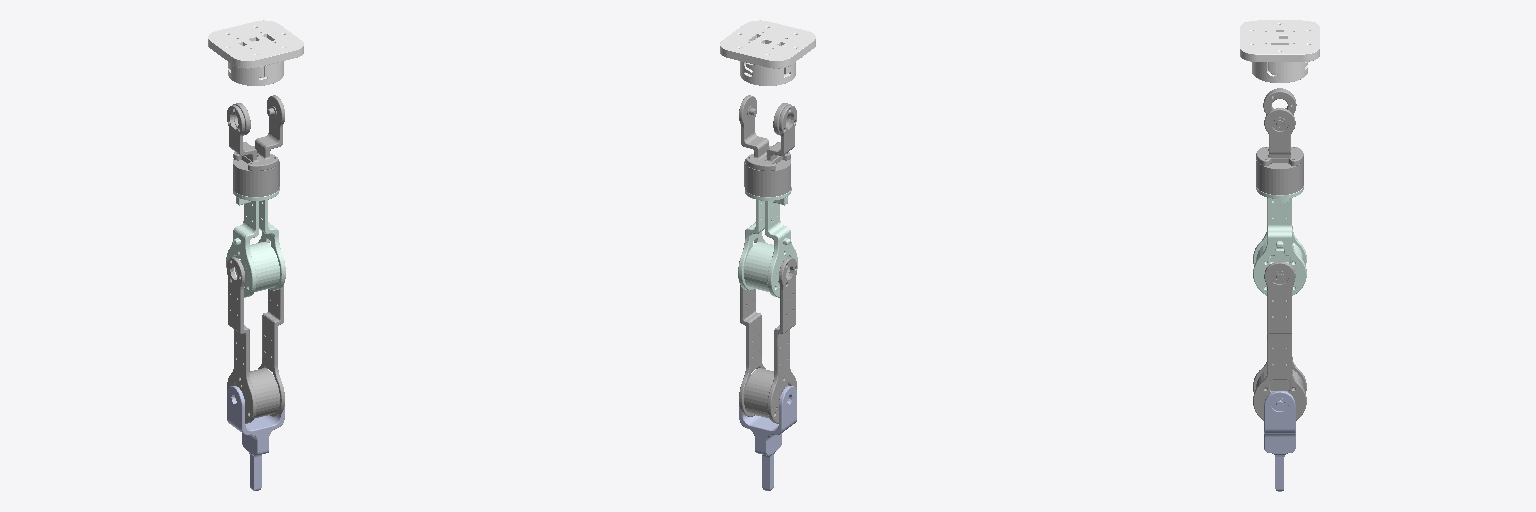
The robot description file, URDF, robot "tandem_mani":
<?xml version="1.0" encoding="utf-8"?>
<!-- This URDF was automatically created by SolidWorks to URDF Exporter! Originally created by [author] ([email redacted]) 
     Commit Version: 1.6.0-4-g7f85cfe  Build Version: 1.6.7995.38578
     For more information, please see http://wiki.ros.org/sw_urdf_exporter -->
<robot
  name="tandem_mani">
<link name="world"/>

 <joint
    name="world_joint"
    type="fixed">
    <origin
      xyz="0 0 1.5"
      rpy="0 0 0" />
    <parent
      link="world" />
    <child
      link="base_link" />
  </joint>

  <link
    name="base_link">
    <inertial>
      <origin
        xyz="0.000135595388122672 5.91224063131307E-05 -0.018365850422852"
        rpy="0 0 0" />
      <mass
        value="2" />
      <inertia
        ixx="2"
        ixy="0"
        ixz="0"
        iyy="2"
        iyz="0"
        izz="2" />
    </inertial>
    <visual>
      <origin
        xyz="0 0 0"
        rpy="0 0 0" />
      <geometry>
        <mesh
          filename="package://tandem_mani/meshes/base_link.STL" />
      </geometry>
      <material
        name="">
        <color
          rgba="1 1 1 1" />
      </material>
    </visual>
    <collision>
      <origin
        xyz="0 0 0"
        rpy="0 0 0" />
      <geometry>
        <mesh
          filename="package://tandem_mani/meshes/base_link.STL" />
      </geometry>
    </collision>
  </link>
  <link
    name="link1">
    <inertial>
      <origin
        xyz="-1.45218249936463E-05 -4.78850872871073E-05 0.0041298276795592"
        rpy="0 0 0" />
      <mass
        value="2" />
      <inertia
        ixx="2"
        ixy="0"
        ixz="0"
        iyy="2"
        iyz="0"
        izz="2" />
    </inertial>
    <visual>
      <origin
        xyz="0 0 0"
        rpy="0 0 0" />
      <geometry>
        <mesh
          filename="package://tandem_mani/meshes/link1.STL" />
      </geometry>
      <material
        name="">
        <color
          rgba="0.905882352941176 1 0.964705882352941 1" />
      </material>
    </visual>
    <collision>
      <origin
        xyz="0 0 0"
        rpy="0 0 0" />
      <geometry>
        <mesh
          filename="package://tandem_mani/meshes/link1.STL" />
      </geometry>
    </collision>
  </link>
  <joint
    name="joint1"
    type="revolute">
    <origin
      xyz="0.00015793 0 -0.093"
      rpy="0 0 1.5708" />
    <parent
      link="base_link" />
    <child
      link="link1" />
     <limit effort="500" velocity="100" lower="-3.14" upper="3.14" />
    <axis
      xyz="0 0 1" />
  </joint>
  <link
    name="link2">
    <inertial>
      <origin
        xyz="-2.14601662783948E-07 -0.0655891331164192 -0.000125674296825215"
        rpy="0 0 0" />
      <mass
        value="2" />
      <inertia
        ixx="2"
        ixy="0"
        ixz="0"
        iyy="2"
        iyz="0"
        izz="2" />
    </inertial>
    <visual>
      <origin
        xyz="0 0 0"
        rpy="0 0 0" />
      <geometry>
        <mesh
          filename="package://tandem_mani/meshes/link2.STL" />
      </geometry>
      <material
        name="">
        <color
          rgba="0.752941176470588 0.752941176470588 0.752941176470588 1" />
      </material>
    </visual>
    <collision>
      <origin
        xyz="0 0 0"
        rpy="0 0 0" />
      <geometry>
        <mesh
          filename="package://tandem_mani/meshes/link2.STL" />
      </geometry>
    </collision>
  </link>
  <joint
    name="joint2"
    type="revolute">
    <origin
      xyz="0 0 0"
      rpy="1.5708 0 0" />
    <parent
      link="link1" />
    <child
      link="link2" />
    <limit effort="500" velocity="100" lower="-3.14" upper="3.14" />
    <axis
      xyz="0 0 1" />
  </joint>
  <link
    name="link3">
    <inertial>
      <origin
        xyz="5.06666183667029E-06 3.62276375425394E-05 -0.00924645090381562"
        rpy="0 0 0" />
      <mass
        value="2" />
      <inertia
        ixx="2"
        ixy="0"
        ixz="0"
        iyy="2"
        iyz="0"
        izz="2" />
    </inertial>
    <visual>
      <origin
        xyz="0 0 0"
        rpy="0 0 0" />
      <geometry>
        <mesh
          filename="package://tandem_mani/meshes/link3.STL" />
      </geometry>
      <material
        name="">
        <color
          rgba="0.905882352941176 1 0.964705882352941 1" />
      </material>
    </visual>
    <collision>
      <origin
        xyz="0 0 0"
        rpy="0 0 0" />
      <geometry>
        <mesh
          filename="package://tandem_mani/meshes/link3.STL" />
      </geometry>
    </collision>
  </link>
  <joint
    name="joint3"
    type="revolute">
    <origin
      xyz="0 -0.189 0"
      rpy="1.5708 0 0" />
    <parent
      link="link2" />
    <child
      link="link3" />
    <limit effort="500" velocity="100" lower="-3.14" upper="3.14" />
    <axis
      xyz="0 0 1" />
  </joint>
  <link
    name="link4">
    <inertial>
      <origin
        xyz="0.140083180519364 7.70217223333702E-16 0.000270635189935343"
        rpy="0 0 0" />
     <mass
        value="2" />
      <inertia
        ixx="2"
        ixy="0"
        ixz="0"
        iyy="2"
        iyz="0"
        izz="2" />
    </inertial>
    <visual>
      <origin
        xyz="0 0 0"
        rpy="0 0 0" />
      <geometry>
        <mesh
          filename="package://tandem_mani/meshes/link4.STL" />
      </geometry>
      <material
        name="">
        <color
          rgba="0.752941176470588 0.752941176470588 0.752941176470588 1" />
      </material>
    </visual>
    <collision>
      <origin
        xyz="0 0 0"
        rpy="0 0 0" />
      <geometry>
        <mesh
          filename="package://tandem_mani/meshes/link4.STL" />
      </geometry>
    </collision>
  </link>
  <joint
    name="joint4"
    type="revolute">
    <origin
      xyz="0 0 0"
      rpy="-1.5708 -1.5708 0" />
    <parent
      link="link3" />
    <child
      link="link4" />
      <limit effort="500" velocity="100" lower="-3.14" upper="3.14" />
    <axis
      xyz="0 0 1" />
  </joint>
  <link
    name="link5">
    <inertial>
      <origin
        xyz="-1.65614616465248E-09 -0.0395485542653819 0.000379781564919621"
        rpy="0 0 0" />
     <mass
        value="2" />
      <inertia
        ixx="2"
        ixy="0"
        ixz="0"
        iyy="2"
        iyz="0"
        izz="2" />
    </inertial>
    <visual>
      <origin
        xyz="0 0 0"
        rpy="0 0 0" />
      <geometry>
        <mesh
          filename="package://tandem_mani/meshes/link5.STL" />
      </geometry>
      <material
        name="">
        <color
          rgba="0.792156862745098 0.819607843137255 0.933333333333333 1" />
      </material>
    </visual>
    <collision>
      <origin
        xyz="0 0 0"
        rpy="0 0 0" />
      <geometry>
        <mesh
          filename="package://tandem_mani/meshes/link5.STL" />
      </geometry>
    </collision>
  </link>
  <joint
    name="joint5"
    type="revolute">
    <origin
      xyz="0.157 0 0"
      rpy="0 0 1.5708" />
    <parent
      link="link4" />
    <child
      link="link5" />
    <limit effort="500" velocity="100" lower="-3.14" upper="3.14" />
    <axis
      xyz="0 0 1" />
  </joint>
  <link
    name="end_point">
    <inertial>
      <origin
        xyz="-1.38777878078145E-17 0 0.00312400364362017"
        rpy="0 0 0" />
     <mass
        value="0.000001" />
      <inertia
        ixx="1e-20"
        ixy="0"
        ixz="0"
        iyy="1e-20"
        iyz="0"
        izz="1e-20" />
    </inertial>
    <visual>
      <origin
        xyz="0 0 0"
        rpy="0 0 0" />
      <geometry>
        <mesh
          filename="package://tandem_mani/meshes/end_point.STL" />
      </geometry>
      <material
        name="">
        <color
          rgba="0.792156862745098 0.819607843137255 0.933333333333333 1" />
      </material>
    </visual>
    <collision>
      <origin
        xyz="0 0 0"
        rpy="0 0 0" />
      <geometry>
        <mesh
          filename="package://tandem_mani/meshes/end_point.STL" />
      </geometry>
    </collision>
  </link>
  <joint
    name="end_joint"
    type="revolute">
    <origin
      xyz="0 -0.12 -0.0005"
      rpy="-1.5708 -1.5708 0" />
    <parent
      link="link5" />
    <child
      link="end_point" />
    <limit effort="30" velocity="1" lower="-0.001" upper="0.001" />
    <axis
      xyz="0 0 1" />
  </joint>
</robot>

--- Facts derived from the render (not from the file) ---
The picture shows the robot from 3 angles, left to right: view 1: azimuth 30°, elevation 25°; view 2: azimuth 150°, elevation 25°; view 3: azimuth 270°, elevation 25°; orthographic projection.
Robot: tandem_mani — 8 links, 7 joints (6 revolute, 1 fixed); root link world; default pose: every joint at zero.
Links seen in each view (by area): view 1: link4, base_link, link2, link3, link5; view 2: link4, base_link, link2, link3, link5; view 3: link4, base_link, link2, link3, link5.
Boxes of the visible links, <box> form: link4: <box>227,257,284,423</box>; base_link: <box>208,20,303,85</box>; link2: <box>227,95,284,196</box>; link3: <box>226,187,285,297</box>; link5: <box>227,386,284,488</box>; link4: <box>739,257,796,423</box>; base_link: <box>720,20,815,85</box>; link2: <box>739,95,796,196</box>; link3: <box>738,187,797,297</box>; link5: <box>739,386,796,488</box>; link4: <box>1253,261,1306,420</box>; base_link: <box>1240,20,1319,82</box>; link2: <box>1256,88,1303,194</box>; link3: <box>1253,186,1306,295</box>; link5: <box>1264,391,1295,488</box>.
Size in the robot's own frame: 0.09 by 0.09 by 0.559 metres.
6 mesh visuals loaded from 7 distinct referenced files (6 binary STL); not drawn: 1 (reference not matched to a file when rendering).
